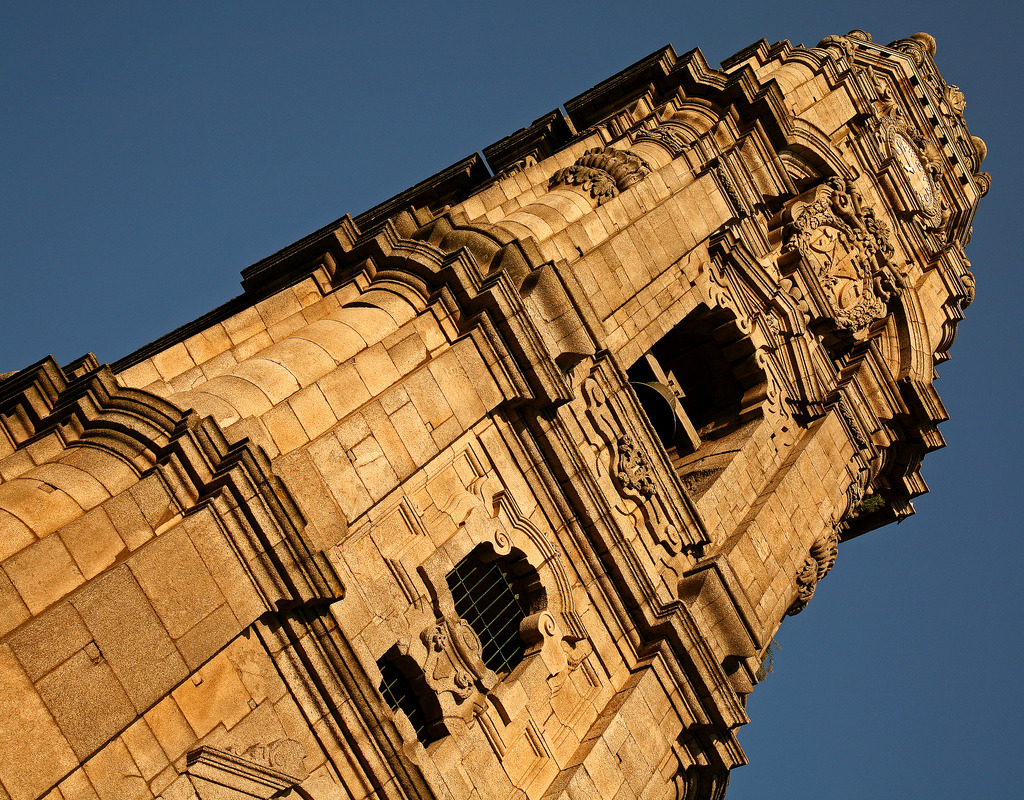clerigos: (0, 24, 997, 799)
